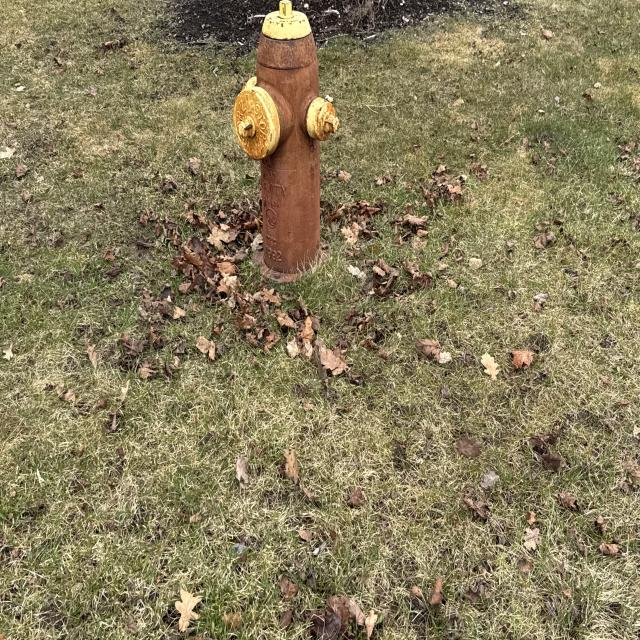Fire hydrant: (231, 2, 341, 287)
